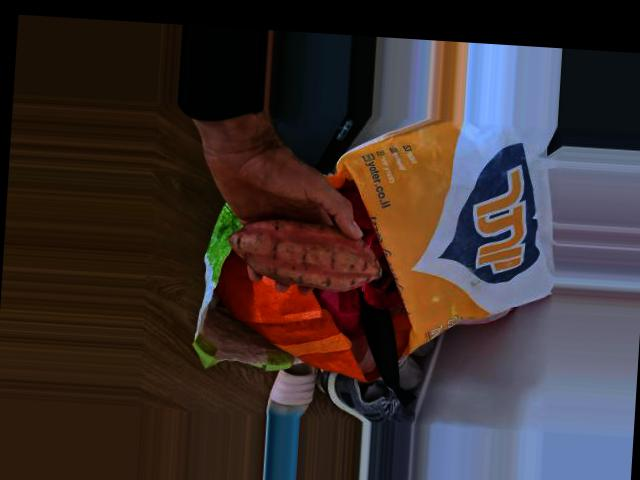sweet_potato: (226, 212, 384, 293)
